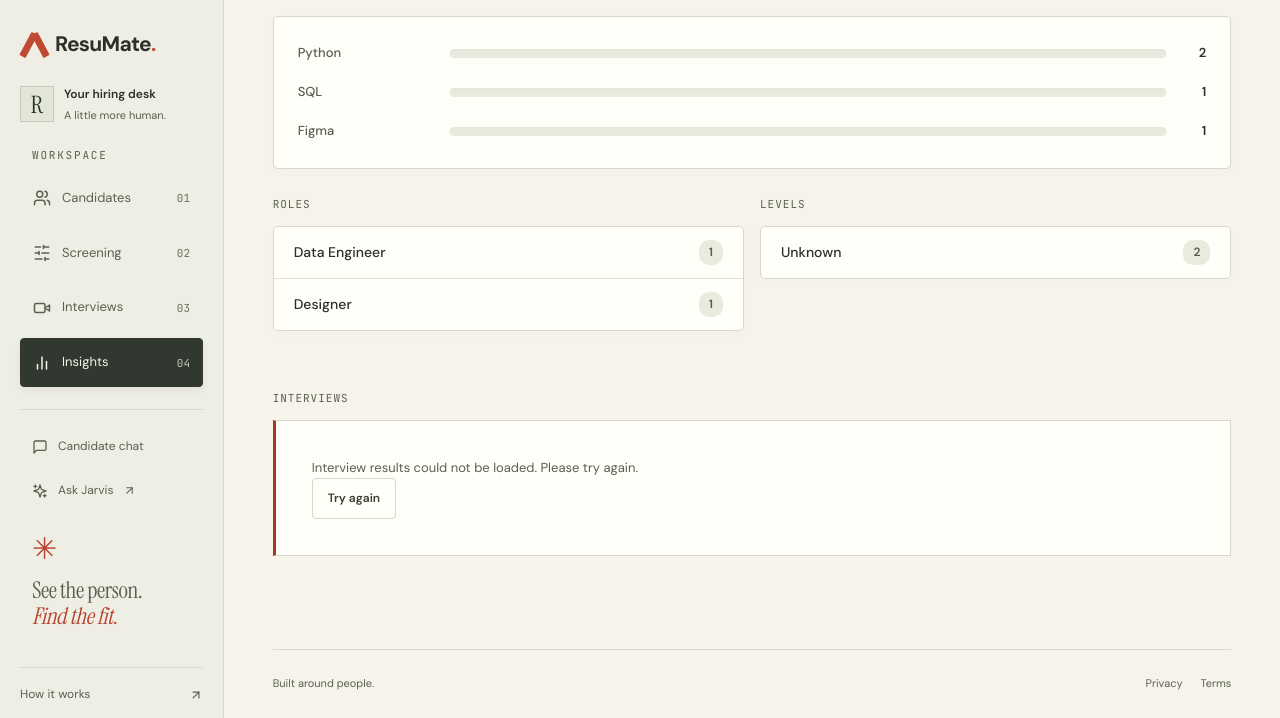
Test: the interviews on Insights › say a failed load failed, and try again
The width and height of the screenshot is (1280, 718).
(page scrolled)
Check: the message shows "could not be loaded", box [312, 459, 638, 476]
Check: the text "No completed interviews yet" is not shown
Click the button "Try again".
click(354, 499)  # box [312, 478, 396, 519]
(page scrolled)
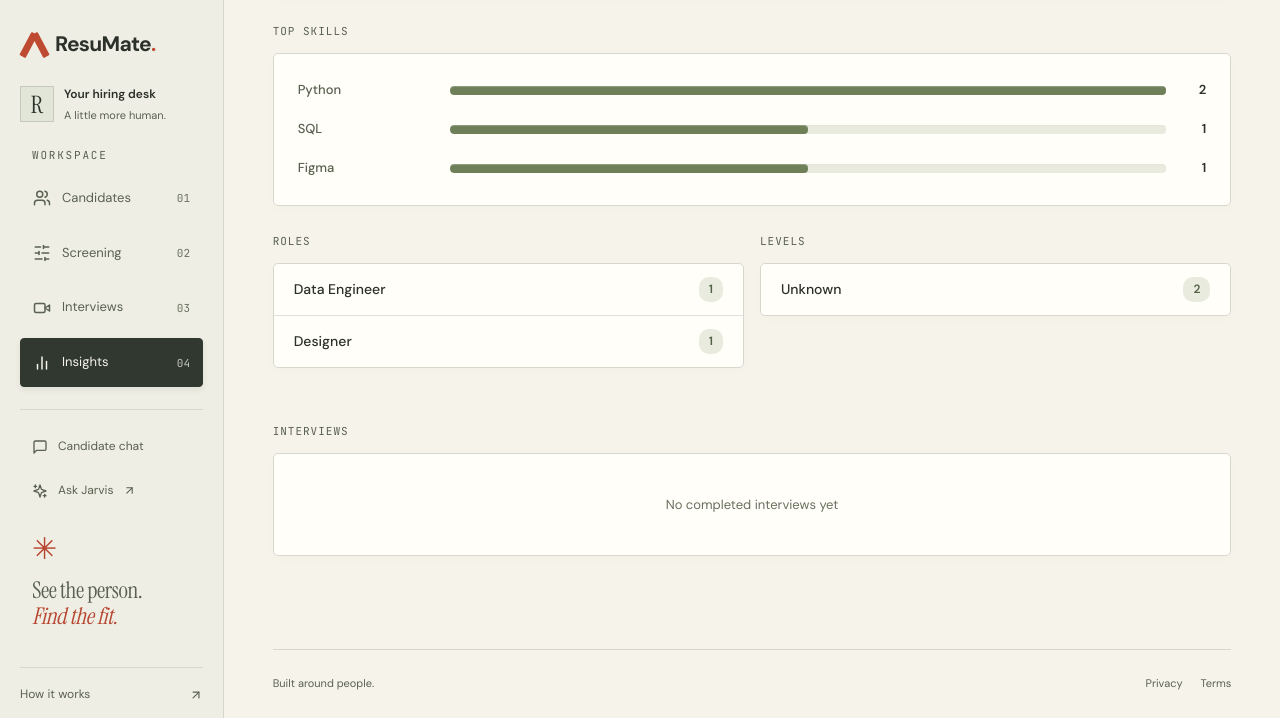
Check: the text "No completed interviews yet" is shown, box [666, 496, 838, 513]
